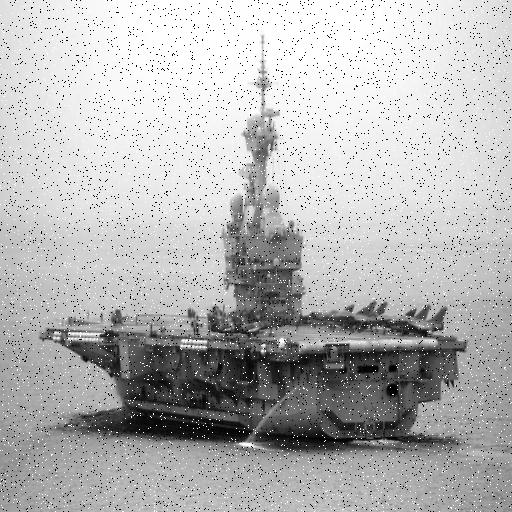Portanaves: (37, 29, 471, 459)
